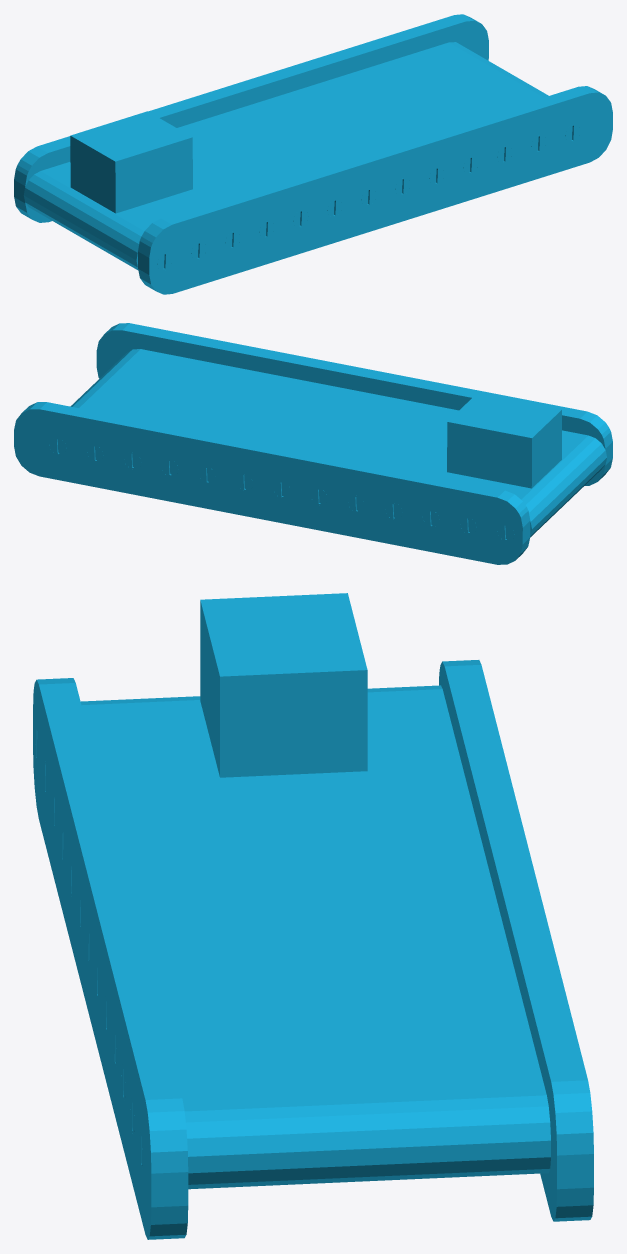
File: BandaOpcion3V2.glb
3 views of the same model, one above another, from view 1: azimuth 30°, elevation 25°; view 2: azimuth 150°, elevation 25°; view 3: azimuth 270°, elevation 25° (orthographic). The views are drawn at different scales.
Parts seen in each view (by area): view 1: BandaOpcion3STL; view 2: BandaOpcion3STL; view 3: BandaOpcion3STL.
Part boxes in pixels (x1,y1,x2,y2): BandaOpcion3STL: (14,14,612,294); BandaOpcion3STL: (14,323,612,564); BandaOpcion3STL: (33,593,593,1239).
Size of the model in its own units: 311 by 61.31 by 151.
